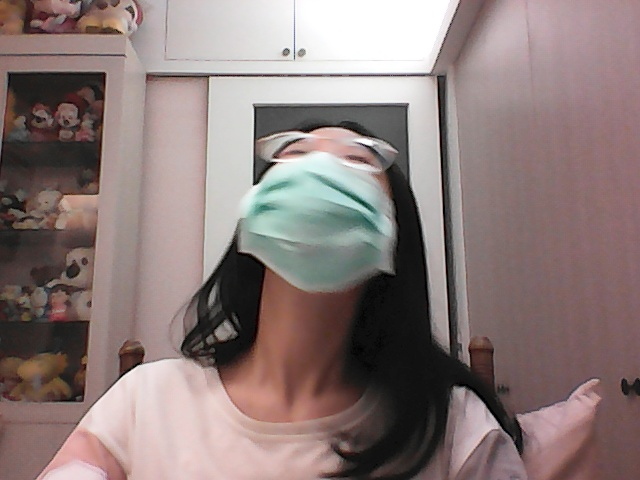Mask: (232, 150, 407, 297)
